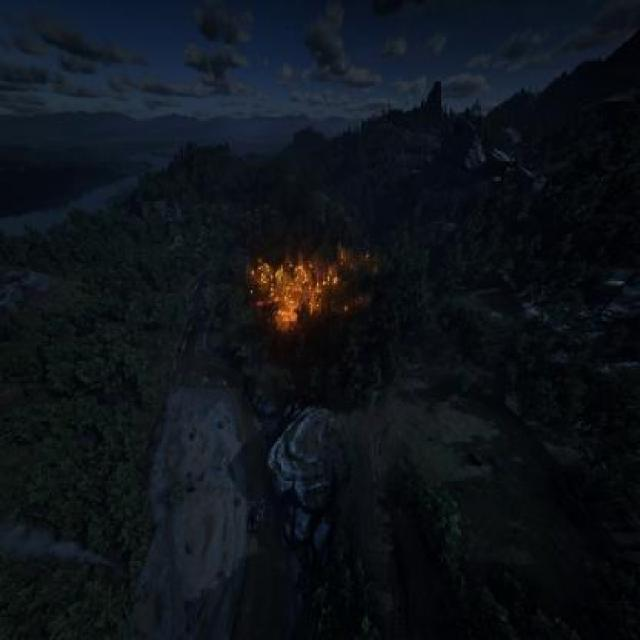Fire: (227, 232, 367, 346)
